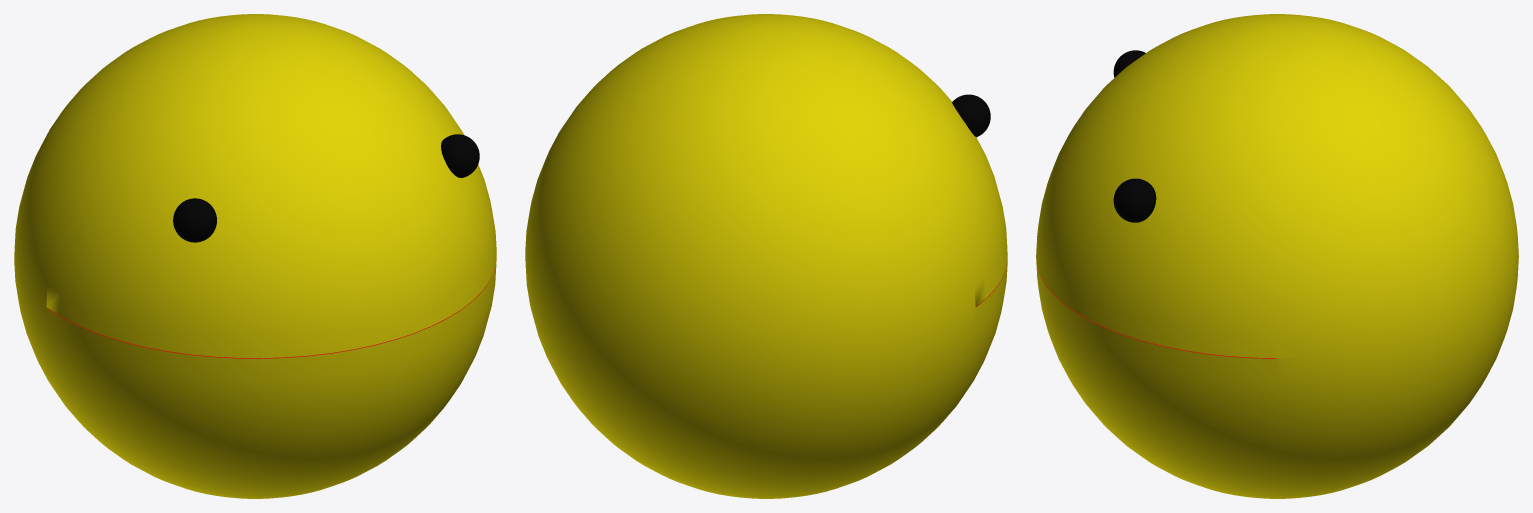
File: pacman.obj
The picture shows the model from 3 angles, left to right: view 1: azimuth 30°, elevation 25°; view 2: azimuth 150°, elevation 25°; view 3: azimuth 270°, elevation 25°; orthographic projection.
Visible parts, largest first — view 1: Body; view 2: Body; view 3: Body.
Part boxes in pixels (box(x1,y1,x2,y2)): Body: box(14, 14, 496, 498); Body: box(525, 14, 1007, 498); Body: box(1036, 14, 1518, 498).
Size of the model in its own units: 6.6 by 6.67 by 6.6.
1 material, 1 textured.
